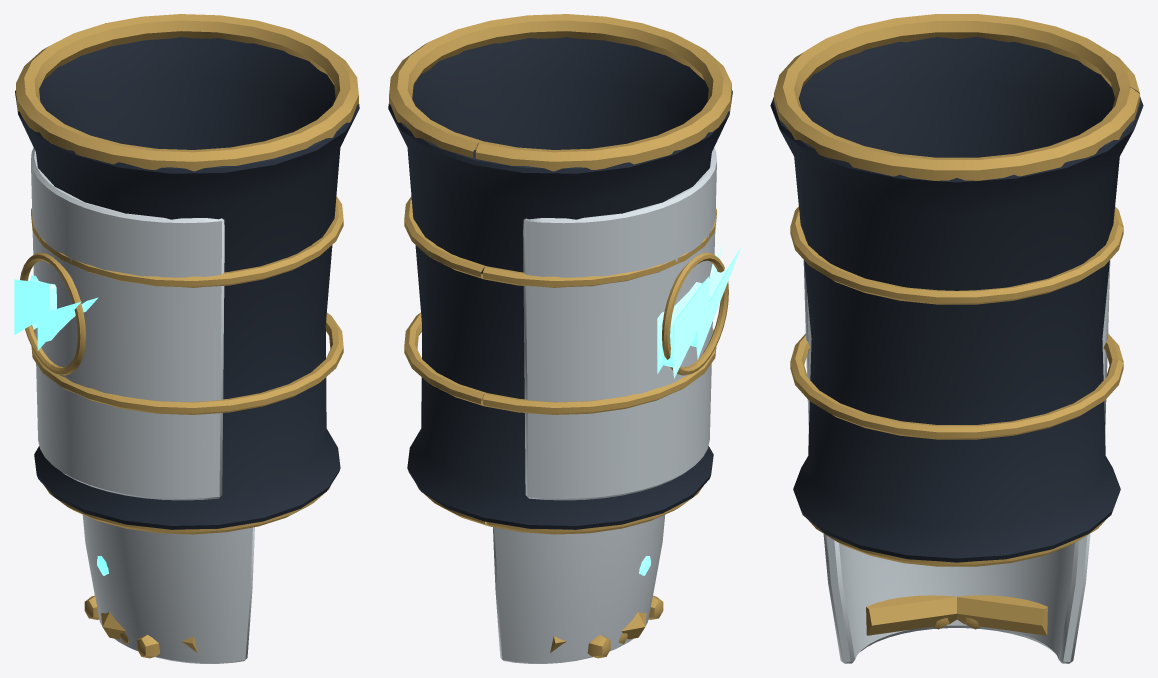
File: boss_truth_of_raikuru_gloves_2.glb
The picture shows the model from 3 angles, left to right: view 1: azimuth 30°, elevation 25°; view 2: azimuth 150°, elevation 25°; view 3: azimuth 270°, elevation 25°; orthographic projection. The views are drawn at different scales.
Visible parts, largest first — view 1: boss_truth_of_raikuru_gloves_2, AT_hand_R; view 2: boss_truth_of_raikuru_gloves_2, AT_hand_R; view 3: boss_truth_of_raikuru_gloves_2, AT_hand_R.
Boxes of the visible parts, left/top/right/bottom form: boss_truth_of_raikuru_gloves_2: left=14, top=14, right=359, bottom=534; AT_hand_R: left=82, top=515, right=254, bottom=663; boss_truth_of_raikuru_gloves_2: left=388, top=14, right=741, bottom=534; AT_hand_R: left=493, top=515, right=664, bottom=663; boss_truth_of_raikuru_gloves_2: left=770, top=14, right=1143, bottom=566; AT_hand_R: left=823, top=534, right=1090, bottom=663.
Size of the model in its own units: 0.1971 by 0.3408 by 0.2004.
